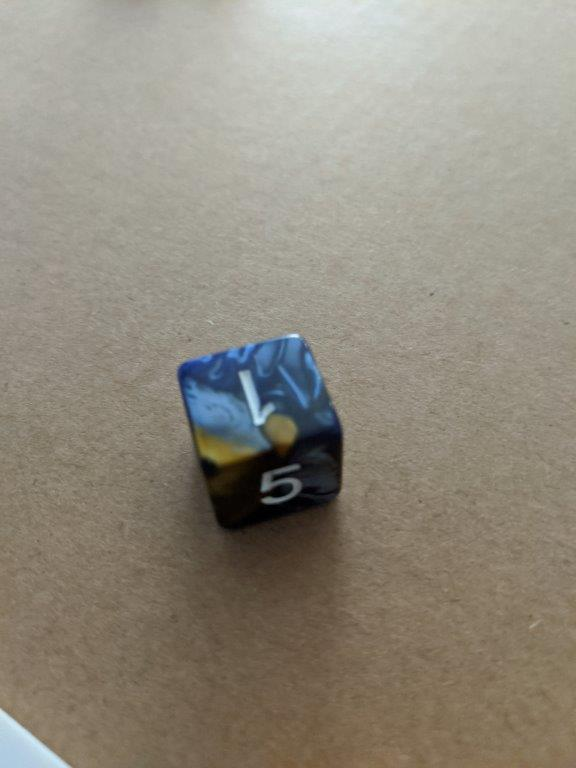d6-1: (177, 335, 346, 528)
